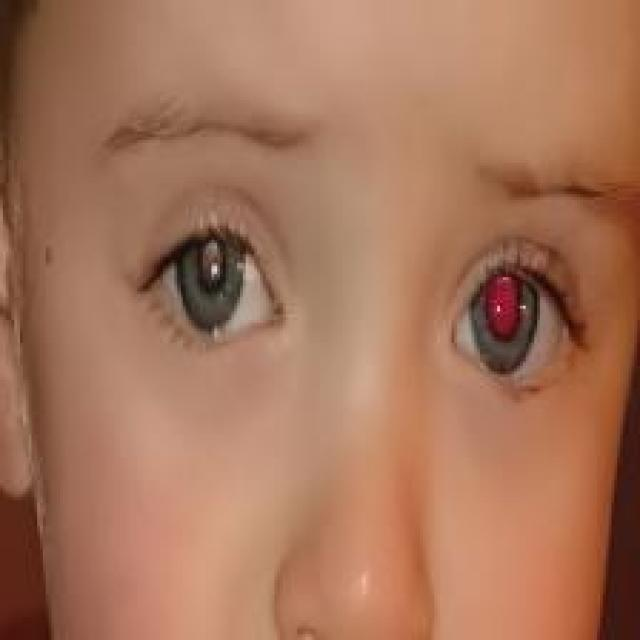reflexo-alterado: (127, 213, 296, 373)
reflexo-normal: (450, 215, 582, 407)
